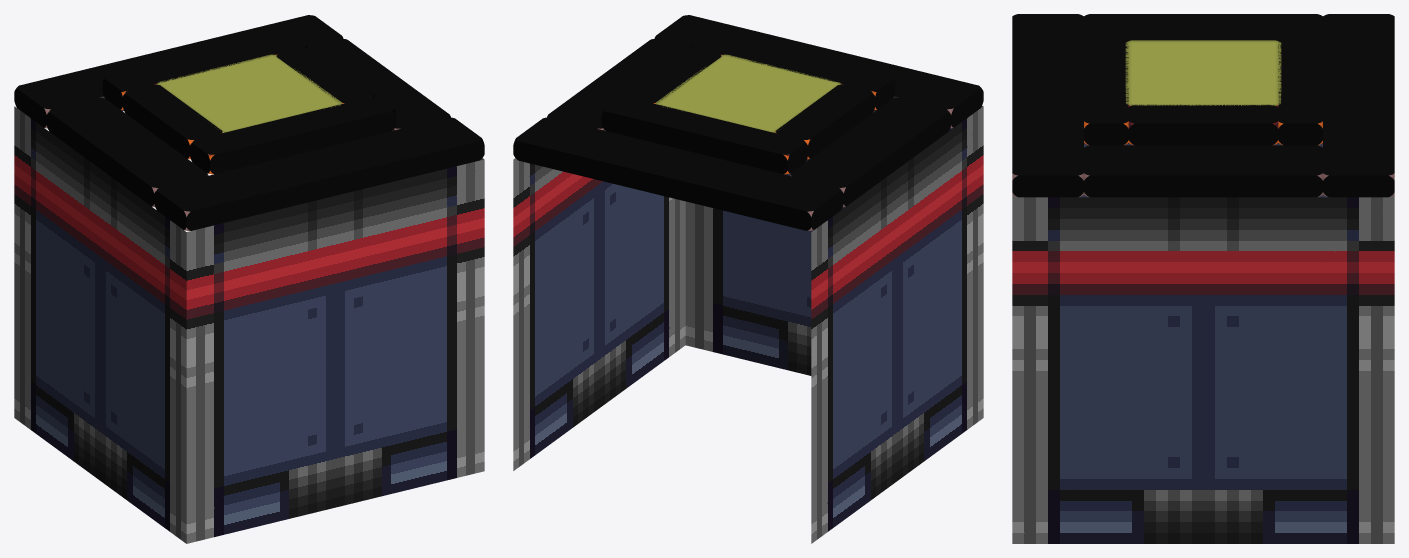
3 views of the same model, side by side, from view 1: azimuth 30°, elevation 25°; view 2: azimuth 150°, elevation 25°; view 3: azimuth 270°, elevation 25° (orthographic). The views are drawn at different scales.
Visible parts, largest first — view 1: S, Roof, W; view 2: Roof, W, E, S; view 3: E, Roof.
Boxes of the visible parts, left/top/right/bottom form: S: left=186, top=159, right=484, bottom=543; Roof: left=14, top=15, right=484, bottom=230; W: left=14, top=106, right=186, bottom=543; Roof: left=513, top=15, right=983, bottom=230; W: left=811, top=106, right=983, bottom=543; E: left=513, top=158, right=685, bottom=470; S: left=685, top=106, right=982, bottom=375; E: left=1012, top=197, right=1394, bottom=543; Roof: left=1012, top=14, right=1394, bottom=197.
Bounding box in the file's own units: 2 × 2.25 × 2.
Materials: 2 (2 with a texture image).
